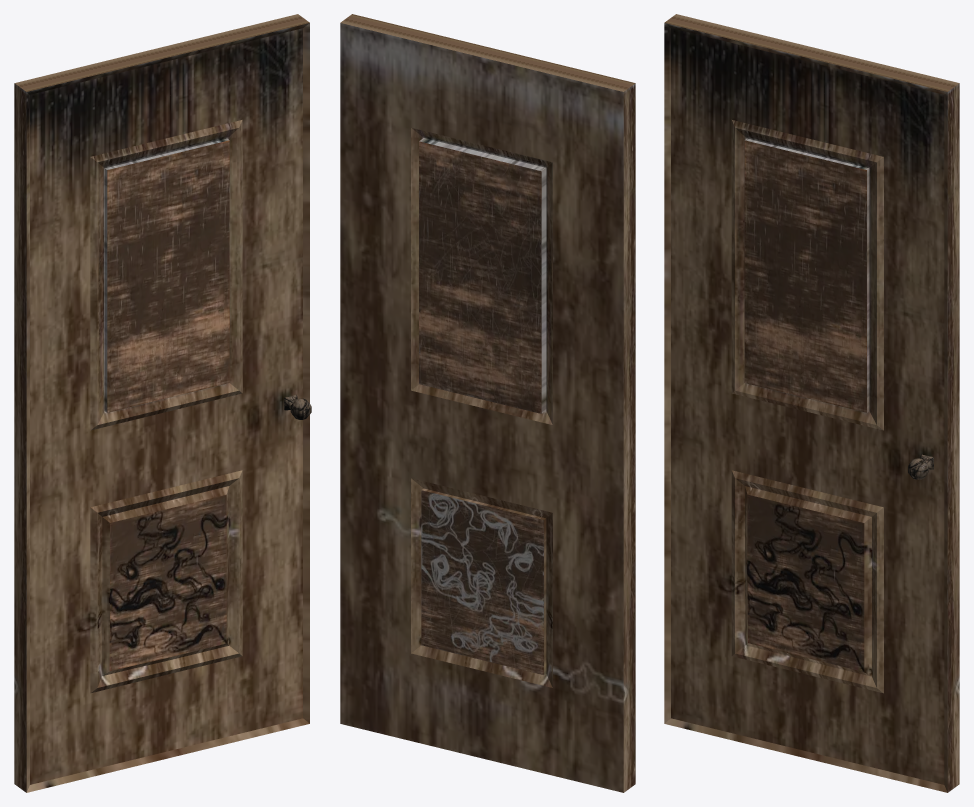
File: door_compressed.glb
The picture shows the model from 3 angles, left to right: view 1: azimuth 30°, elevation 25°; view 2: azimuth 150°, elevation 25°; view 3: azimuth 330°, elevation 25°; orthographic projection.
Bounding box in the file's own units: 38.32 × 90.51 × 6.77.
Materials: 1 (1 with a texture image).
